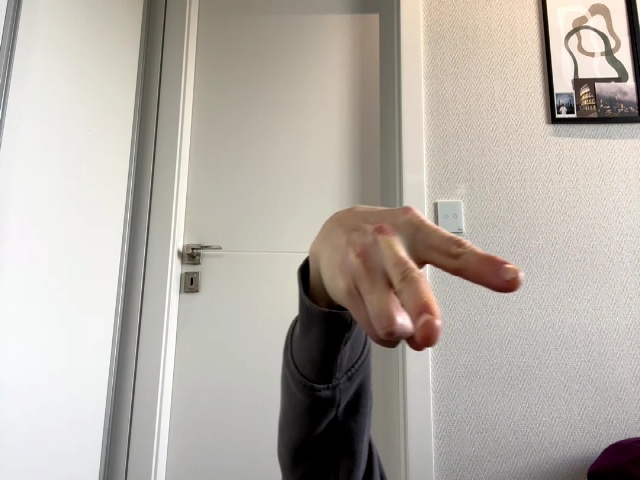U: (310, 206, 524, 351)
